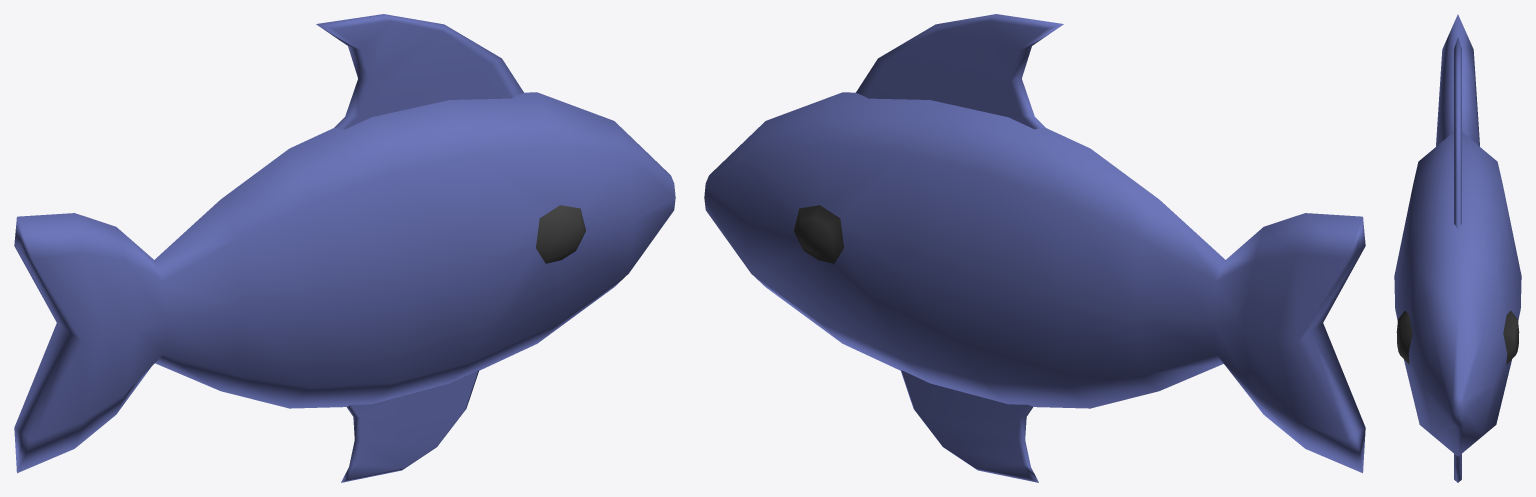
Rendered from SM_Fish.fbx.
3 views of the same model, side by side, from view 1: azimuth 30°, elevation 25°; view 2: azimuth 150°, elevation 25°; view 3: azimuth 270°, elevation 25° (orthographic). The views are drawn at different scales.
Visible parts, largest first — view 1: SM_Fish; view 2: SM_Fish; view 3: SM_Fish.
Part boxes in pixels (left/top/right/bottom): SM_Fish: left=14, top=14, right=675, bottom=482; SM_Fish: left=704, top=14, right=1365, bottom=482; SM_Fish: left=1394, top=14, right=1521, bottom=482.
Bounding box in the file's own units: 0.8997 × 0.6145 × 0.1738.
